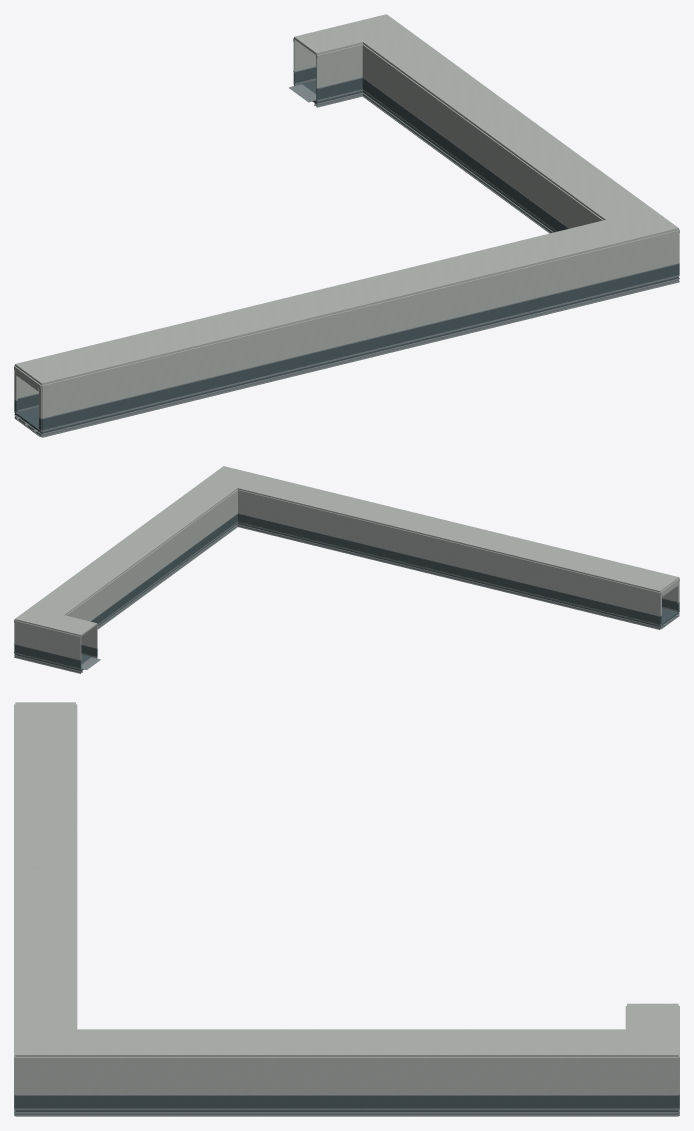
Rendered from MINERAL_SERVICE_RECEIVER_r001.glb.
3 views of the same model, one above another, from view 1: azimuth 30°, elevation 25°; view 2: azimuth 150°, elevation 25°; view 3: azimuth 270°, elevation 25° (orthographic). The views are drawn at different scales.
Parts seen in each view (by area): view 1: MBS_BATCH_001, MBS_BATCH_000, MBS_BATCH_002; view 2: MBS_BATCH_001, MBS_BATCH_000, MBS_BATCH_002; view 3: MBS_BATCH_001, MBS_BATCH_000, MBS_BATCH_002.
Part boxes in pixels (bbox=[...]): MBS_BATCH_001: bbox=[14, 14, 679, 418]; MBS_BATCH_000: bbox=[14, 67, 679, 434]; MBS_BATCH_002: bbox=[14, 66, 679, 437]; MBS_BATCH_001: bbox=[14, 466, 679, 659]; MBS_BATCH_000: bbox=[14, 514, 679, 671]; MBS_BATCH_002: bbox=[14, 513, 679, 673]; MBS_BATCH_001: bbox=[14, 702, 679, 1094]; MBS_BATCH_000: bbox=[14, 1095, 679, 1112]; MBS_BATCH_002: bbox=[14, 1061, 679, 1116].
Size of the model in its own units: 55.39 by 4.44 by 43.88.
Materials: 4 (3 with a texture image).
